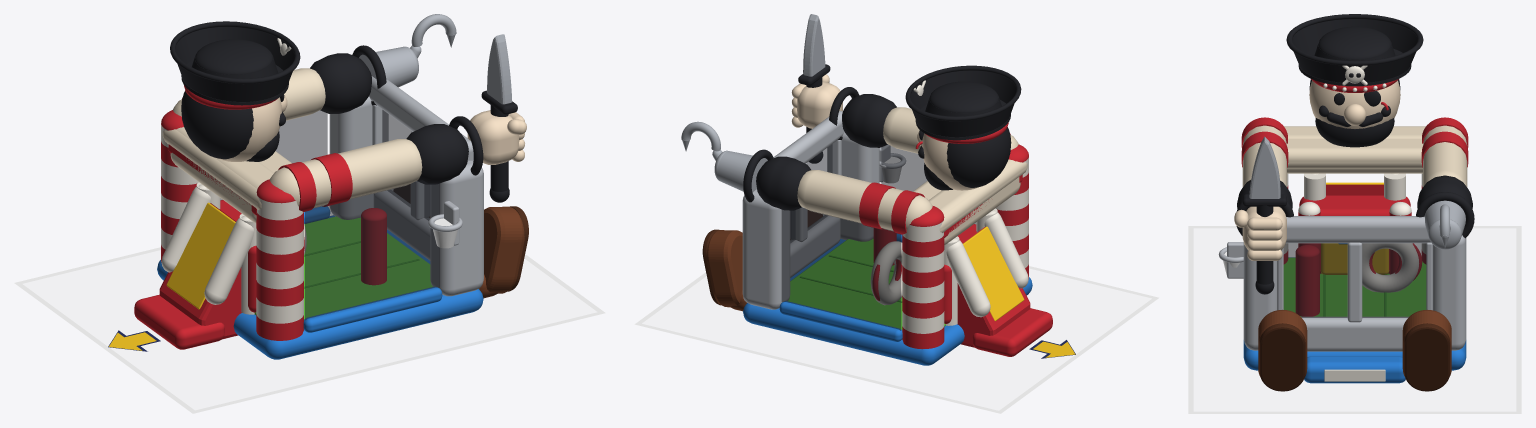
The model's file is castillo-pirata-v2.glb.
3 views of the same model, side by side, from view 1: azimuth 30°, elevation 25°; view 2: azimuth 150°, elevation 25°; view 3: azimuth 270°, elevation 25° (orthographic). The views are drawn at different scales.
Visible parts, largest first — view 1: espacio, negro, malla, rojo, gris, crema, blanco, azul, verde, amarillo, piel, plata (+2 smaller); view 2: espacio, negro, malla, gris, rojo, crema, blanco, azul, verde, amarillo, plata, piel (+2 smaller); view 3: espacio, gris, negro, malla, crema, rojo, cafeOscuro, blanco, piel, verde, borde, azul (+3 smaller).
Part boxes in pixels (x1,y1,x2,y2): espacio: [23, 213, 596, 409]; negro: [170, 21, 517, 202]; malla: [220, 110, 439, 320]; rojo: [134, 85, 386, 349]; gris: [329, 76, 483, 296]; crema: [162, 68, 422, 223]; blanco: [161, 38, 306, 323]; azul: [157, 206, 483, 359]; verde: [254, 216, 432, 319]; amarillo: [109, 202, 235, 350]; piel: [218, 95, 526, 164]; plata: [359, 14, 512, 104]; espacio: [642, 269, 1151, 410]; negro: [743, 64, 1021, 210]; malla: [781, 144, 976, 330]; gris: [742, 111, 905, 309]; rojo: [859, 122, 1052, 356]; crema: [797, 107, 1027, 245]; blanco: [870, 80, 1028, 333]; azul: [743, 233, 1032, 365]; verde: [788, 239, 945, 329]; amarillo: [963, 226, 1075, 357]; plata: [681, 14, 825, 192]; piel: [791, 74, 977, 190]; espacio: [1194, 228, 1515, 411]; gris: [1218, 216, 1466, 351]; negro: [1236, 14, 1474, 294]; malla: [1283, 243, 1426, 317]; crema: [1242, 125, 1467, 187]; rojo: [1241, 79, 1468, 316]; cafeOscuro: [1260, 323, 1449, 391]; blanco: [1283, 65, 1426, 381]; piel: [1234, 80, 1400, 260]; verde: [1283, 257, 1426, 316]; borde: [1188, 226, 1521, 413]; azul: [1243, 243, 1466, 383].
Bounding box in the file's own units: 8 × 4.99 × 6.
